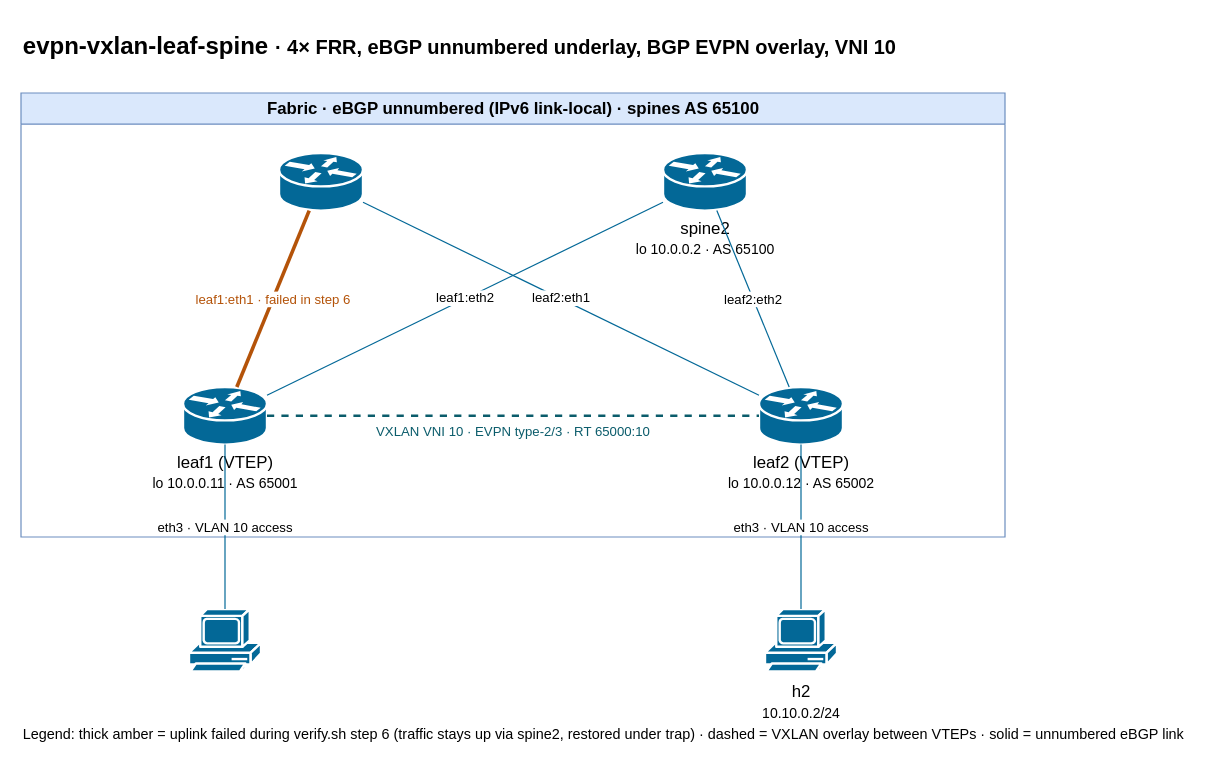
This 1206x773 diagram has some shape labels left out. The centre of each missing label's shape, as x and y in pixels:
"h1 10.10.0.1/24" goes at (x=224, y=640).
"spine1 lo 10.0.0.1 · AS 65100" goes at (x=320, y=181).
